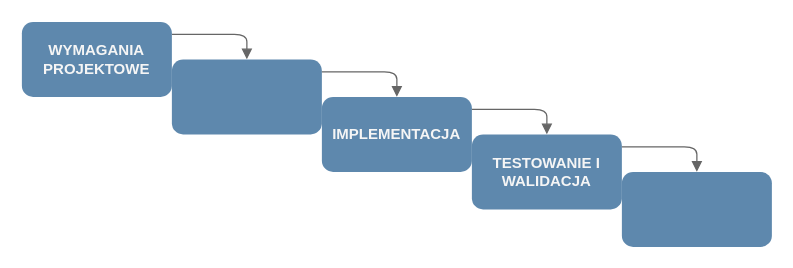
The diagram is 793 pixels wide and 268 high, and some of its shapes have lost their labels. Each missing label, with the box of its shape:
DESIGN: (171, 59, 321, 134)
WDROŻENIE I UTRZYMYWANIE: (621, 171, 771, 246)
